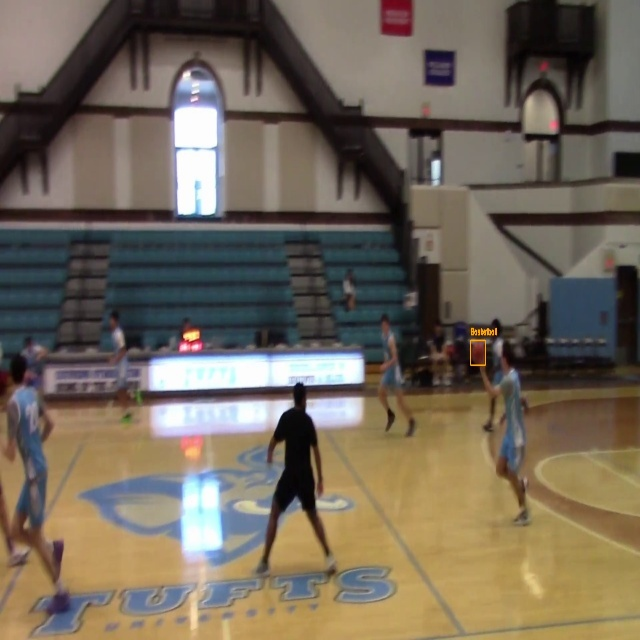Basketball: (471, 340, 485, 365)
